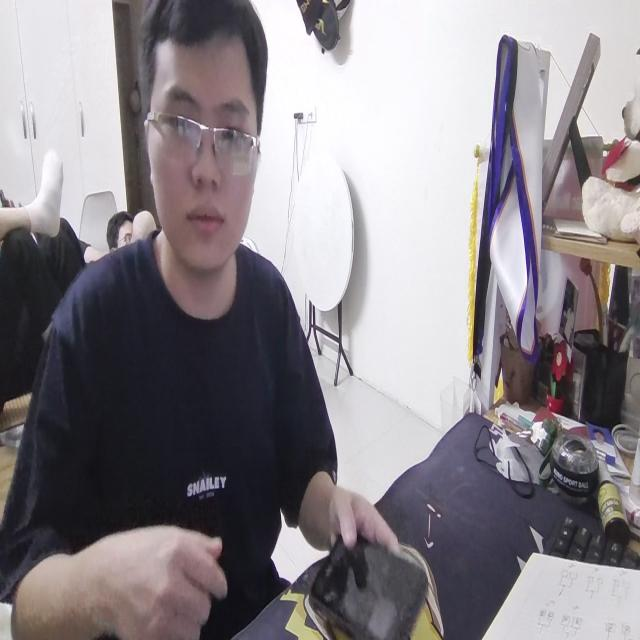book: (475, 539, 640, 640)
extra_person: (105, 207, 154, 256)
phone: (310, 526, 428, 640)
student: (2, 0, 407, 640)
